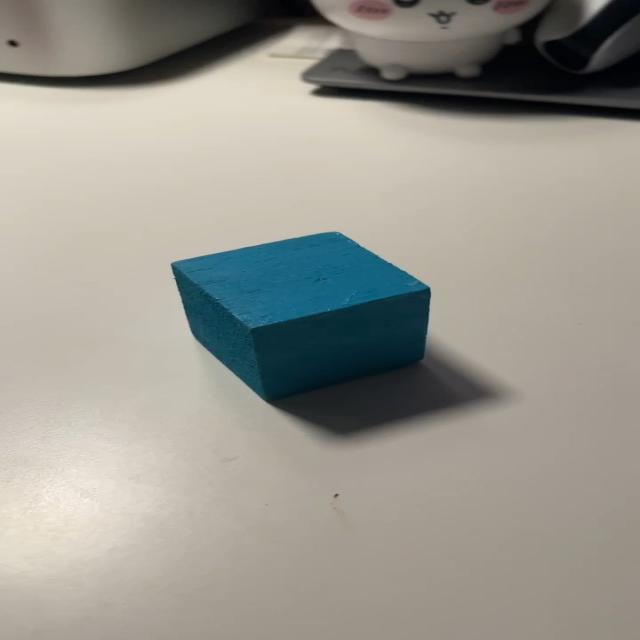blue_block: (162, 230, 455, 392)
